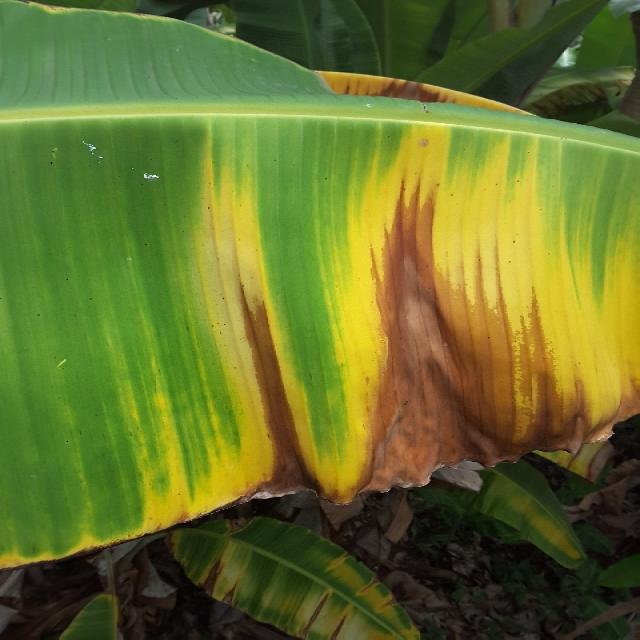Cordana: (3, 88, 640, 570), (136, 502, 520, 640), (450, 449, 640, 607), (258, 45, 577, 133), (0, 0, 304, 68)
